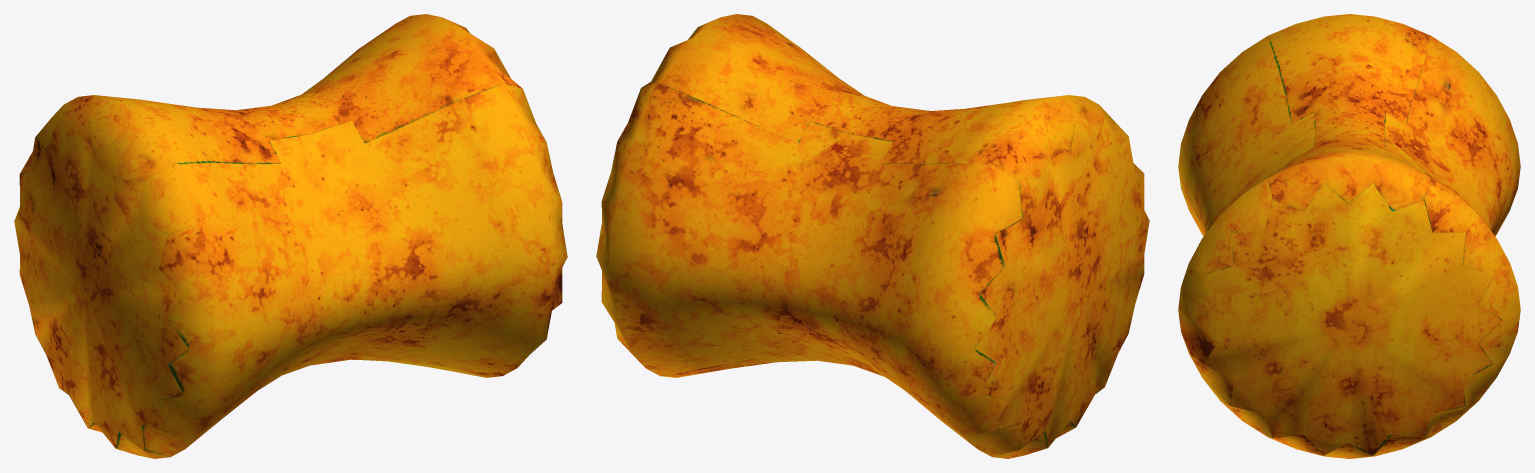
Rendered from attach_flame_Orange.FBX.
The picture shows the model from 3 angles, left to right: view 1: azimuth 30°, elevation 25°; view 2: azimuth 150°, elevation 25°; view 3: azimuth 270°, elevation 25°; orthographic projection. The views are drawn at different scales.
Visible parts, largest first — view 1: 접착; view 2: 접착; view 3: 접착.
Boxes of the visible parts, bbox=[...] form: 접착: bbox=[14, 14, 567, 458]; 접착: bbox=[596, 14, 1149, 458]; 접착: bbox=[1178, 14, 1520, 458].
Size of the model in its own units: 4.03 by 3.26 by 3.17.
1 material, 1 textured.
